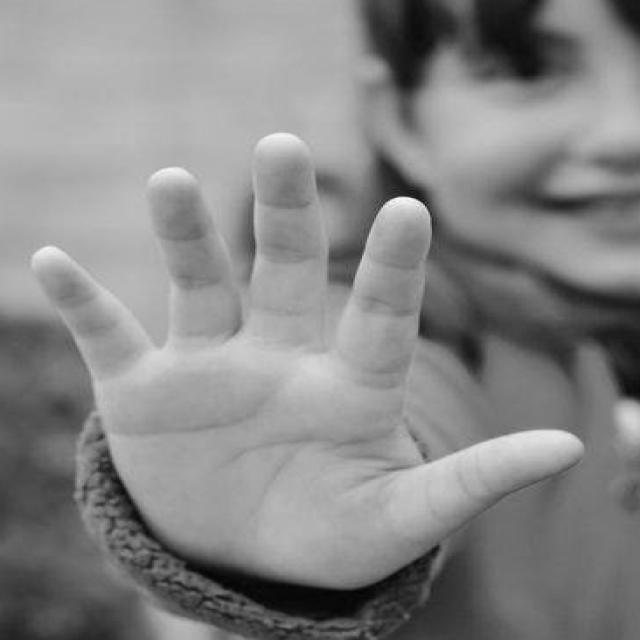stop: (23, 127, 592, 598)
